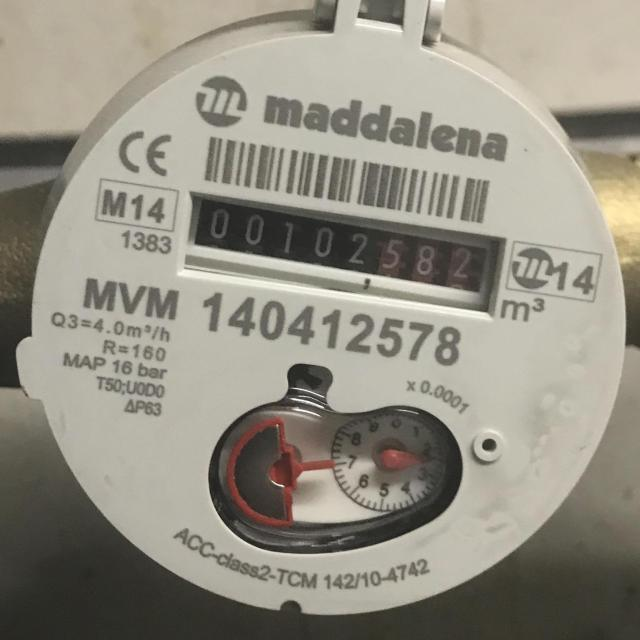gaz_meter: (30, 26, 626, 616)
indication: (186, 195, 494, 298)
